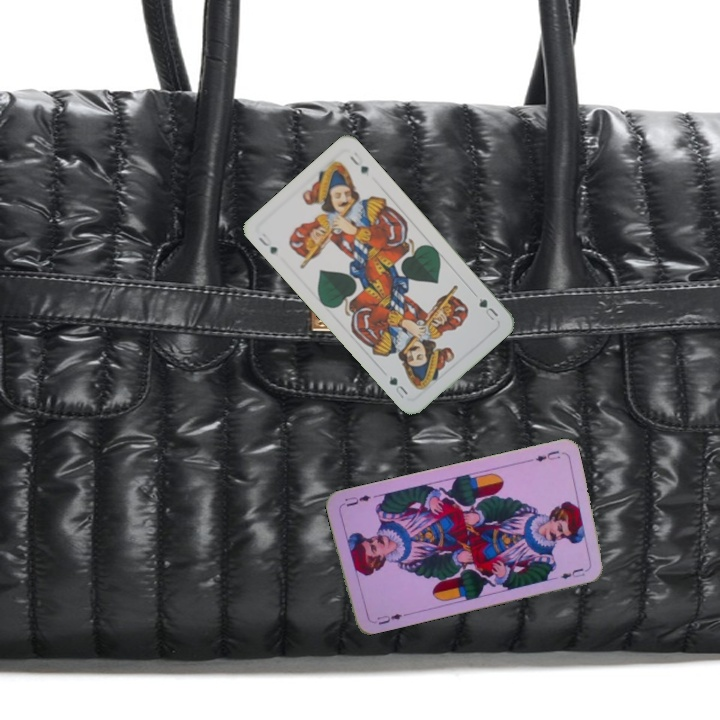EU: (367, 609, 407, 627), (532, 446, 563, 464)
GU: (470, 289, 501, 323), (254, 233, 280, 258)
